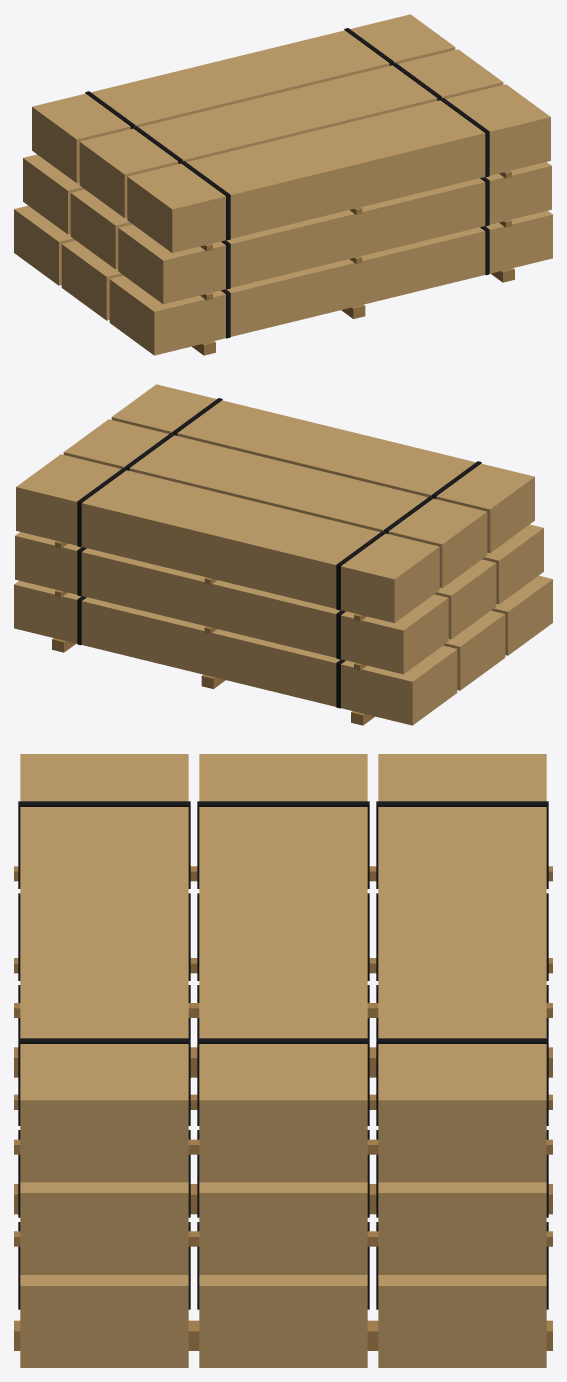
Rendered from gs-timber-stack.glb.
The picture shows the model from 3 angles, top to bottom: view 1: azimuth 30°, elevation 25°; view 2: azimuth 150°, elevation 25°; view 3: azimuth 270°, elevation 25°; orthographic projection. The views are drawn at different scales.
Visible parts, largest first — view 1: gs-timber-stack; view 2: gs-timber-stack; view 3: gs-timber-stack.
Boxes of the visible parts, x1,y1,x2,y2 form: gs-timber-stack: (14,14,552,355); gs-timber-stack: (14,384,552,725); gs-timber-stack: (14,754,552,1367).
Bounding box in the file's own units: 4 × 1.47 × 2.5.
